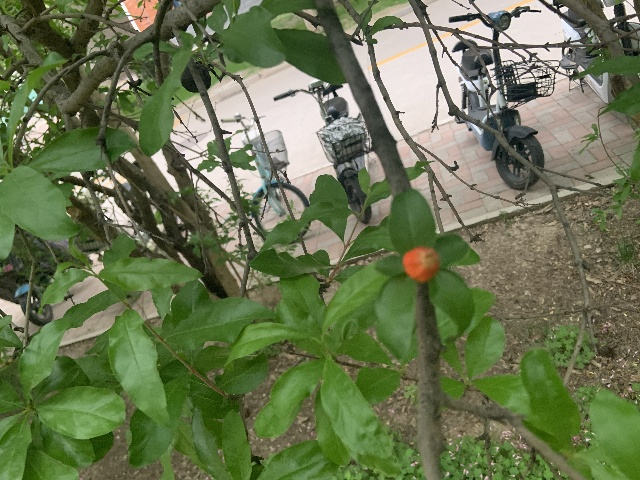bud: (402, 245, 440, 282)
